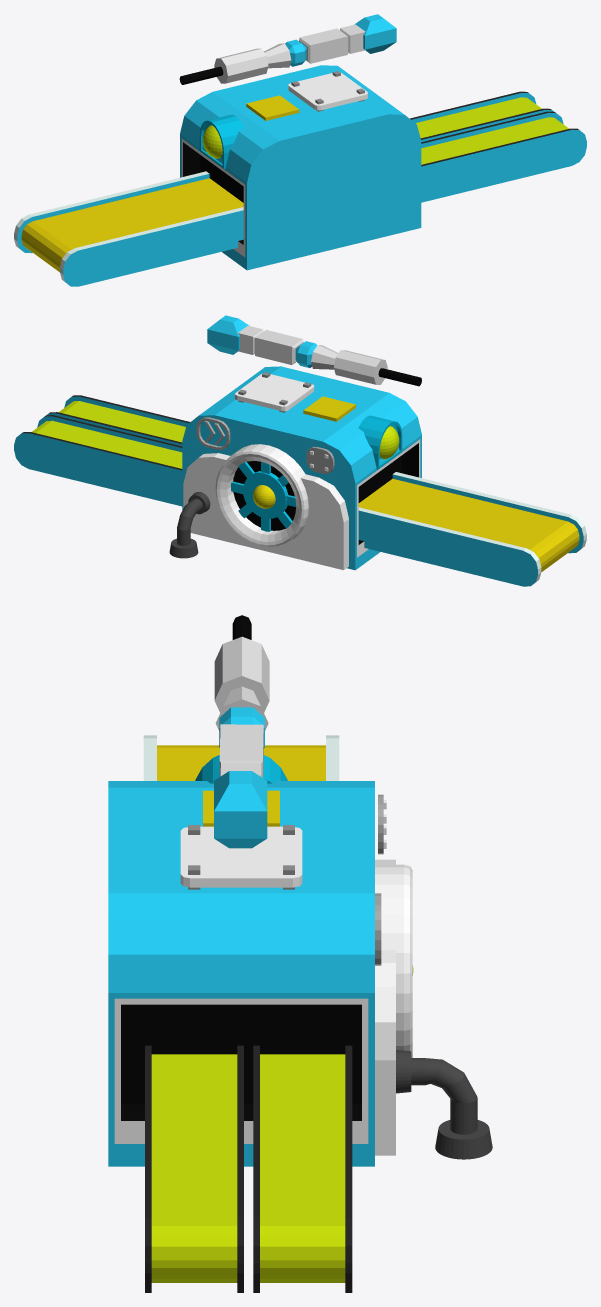
Rendered from ArmMachineLevel1.fbx.
3 views of the same model, one above another, from view 1: azimuth 30°, elevation 25°; view 2: azimuth 150°, elevation 25°; view 3: azimuth 270°, elevation 25° (orthographic). The views are drawn at different scales.
Parts seen in each view (by area): view 1: HeadMachine, HeadMachineOutorIn, line, HeadMachineOutorIn.001, Level1Arm, line.001, line.002, HeadMachineOutorIn.002, BigLight; view 2: HeadMachine, HeadMachineOutorIn, line, HeadMachineOutorIn.002, Level1Arm, line.002, HeadMachineWheel, line.001, HeadMachineOutorIn.001, BigLight, SmallLight; view 3: HeadMachine, line.001, line.002, Level1Arm, HeadMachineOutorIn.002, line, HeadMachineOutorIn.001, HeadMachineOutorIn.
Boxes of the visible parts, box(x1,y1,x2,y2) form: HeadMachine: box(180, 65, 421, 270); HeadMachineOutorIn: box(14, 171, 243, 286); line: box(21, 178, 243, 272); HeadMachineOutorIn.001: box(421, 111, 586, 202); Level1Arm: box(179, 14, 396, 84); line.001: box(421, 117, 568, 164); line.002: box(415, 97, 541, 138); HeadMachineOutorIn.002: box(410, 91, 553, 141); BigLight: box(202, 125, 222, 158); HeadMachine: box(169, 366, 421, 570); HeadMachineOutorIn: box(358, 472, 586, 586); line: box(358, 478, 579, 571); HeadMachineOutorIn.002: box(14, 415, 182, 506); Level1Arm: box(207, 315, 421, 386); line.002: box(32, 420, 182, 468); HeadMachineWheel: box(231, 461, 296, 531); line.001: box(59, 401, 185, 442); HeadMachineOutorIn.001: box(47, 395, 190, 446); BigLight: box(379, 426, 399, 459); SmallLight: box(253, 485, 275, 508); HeadMachine: box(108, 755, 492, 1166); line.001: box(151, 1054, 237, 1282); line.002: box(260, 1054, 345, 1282); Level1Arm: box(214, 615, 269, 848); HeadMachineOutorIn.002: box(253, 1045, 352, 1292); line: box(157, 745, 325, 780); HeadMachineOutorIn.001: box(145, 1045, 243, 1292); HeadMachineOutorIn: box(143, 735, 339, 780).
Bounding box in the file's own units: 902 × 288 × 314.
